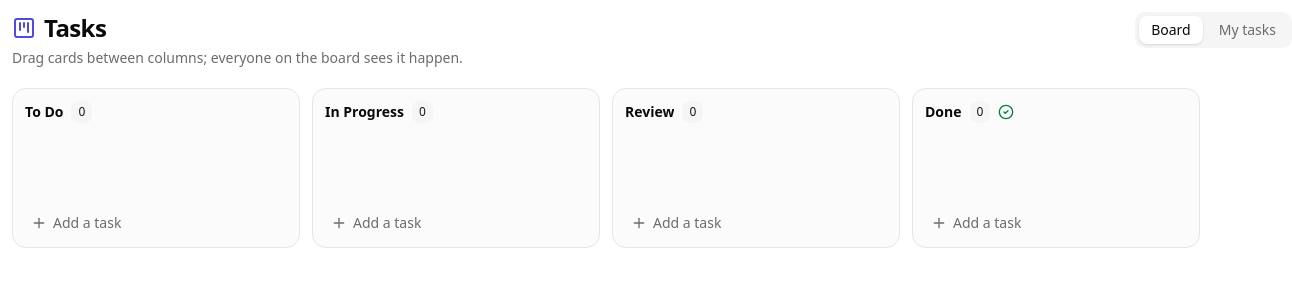
Test: <TasksPage /> board › adds a task to a column from the column itself
Click the button named "Add a task to Review" at (687, 222), box [621, 207, 891, 239]
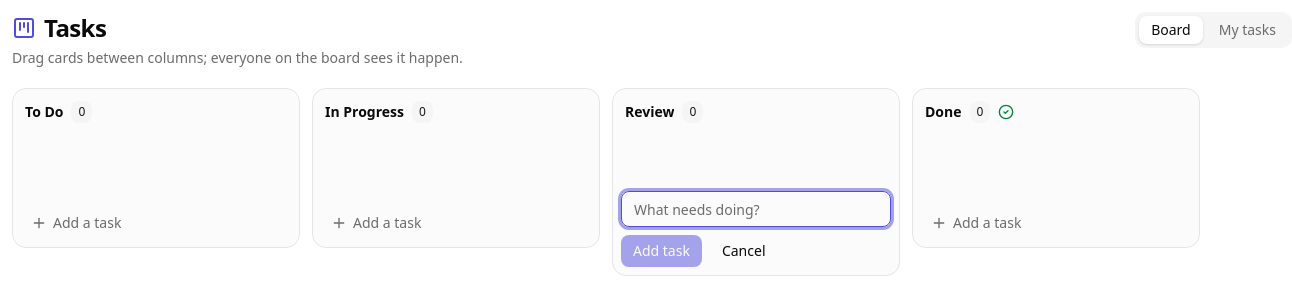
Type "Check the contrast" into the field named "New task in Review" at (756, 209), box [621, 191, 891, 227]
Then press Enter
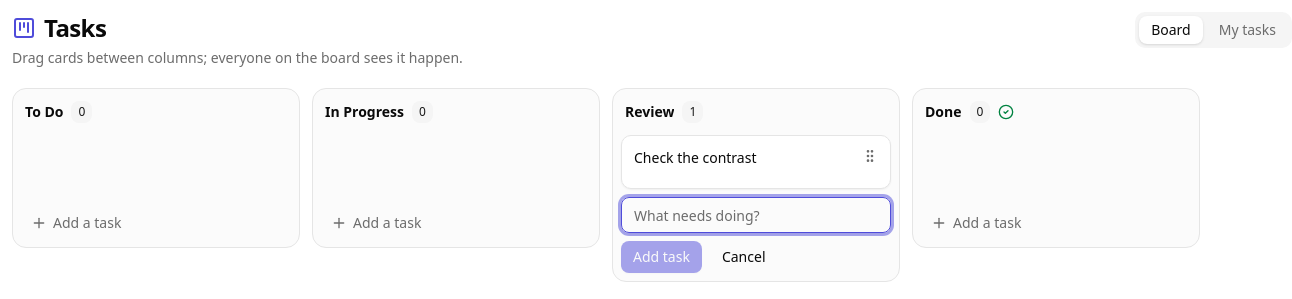
Now the button "Check the contrast" is shown, box [634, 148, 854, 167]
